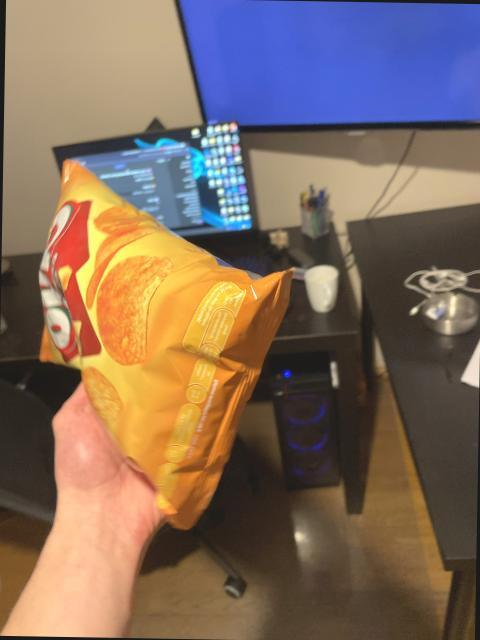Chio Cascaval 125g: (36, 163, 292, 530)
